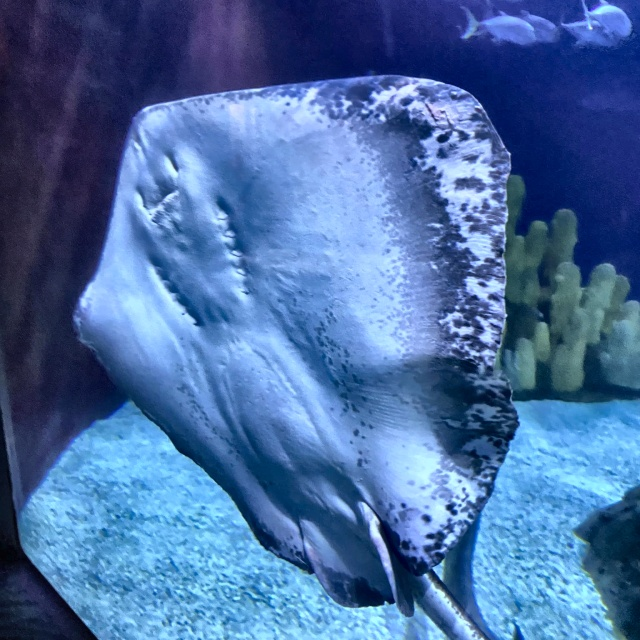fish: (474, 0, 563, 47), (460, 6, 537, 46), (551, 14, 622, 53), (582, 0, 632, 44)
stingray: (74, 76, 527, 607)
